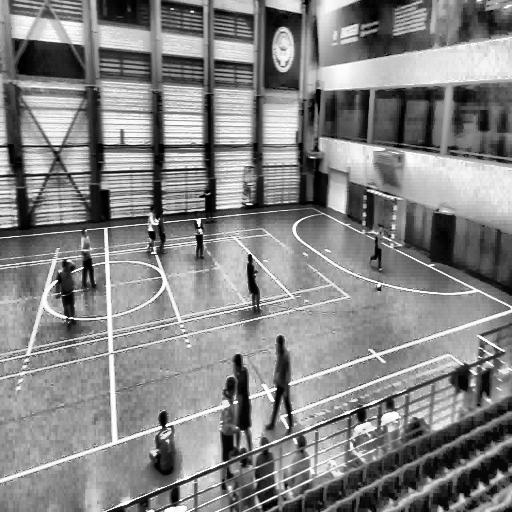ball: (376, 282, 382, 292)
player: (264, 336, 294, 433), (220, 378, 240, 481), (150, 411, 177, 480), (58, 260, 76, 328), (81, 227, 98, 288), (246, 253, 261, 314), (368, 224, 385, 272), (193, 211, 205, 261), (146, 204, 157, 255), (157, 209, 167, 253)
